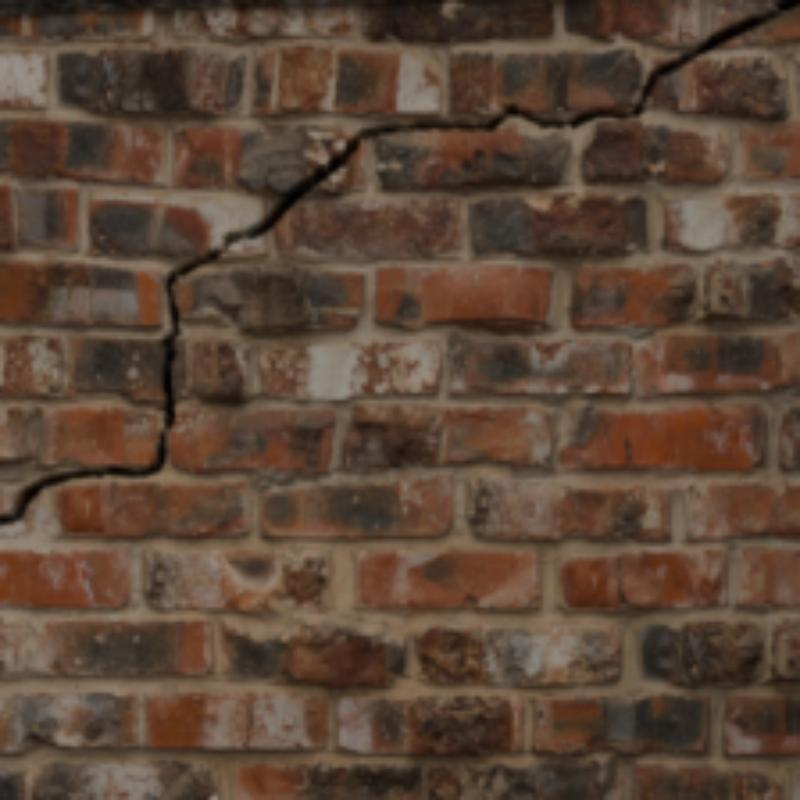pothole: (0, 0, 796, 521), (243, 696, 257, 746)
